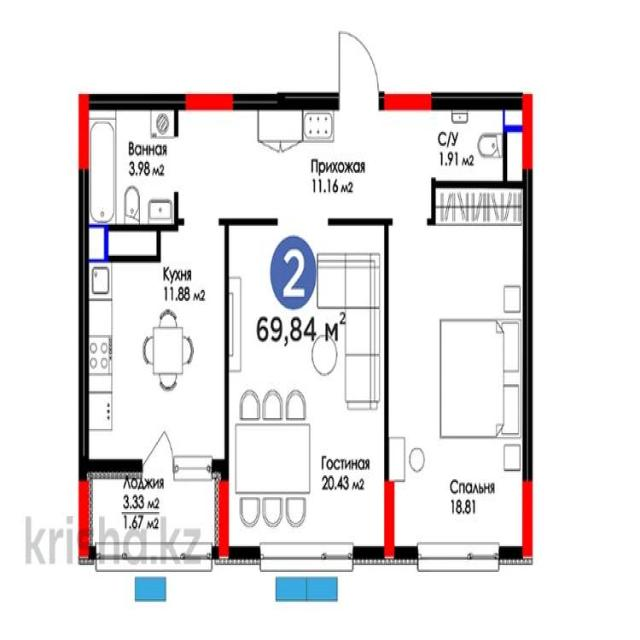balcony: (92, 472, 217, 567)
bathroom: (86, 110, 175, 225), (433, 108, 506, 181)
hallway: (177, 111, 428, 216)
kitchen: (85, 230, 222, 462)
living_room: (226, 224, 386, 556), (389, 220, 527, 550)
